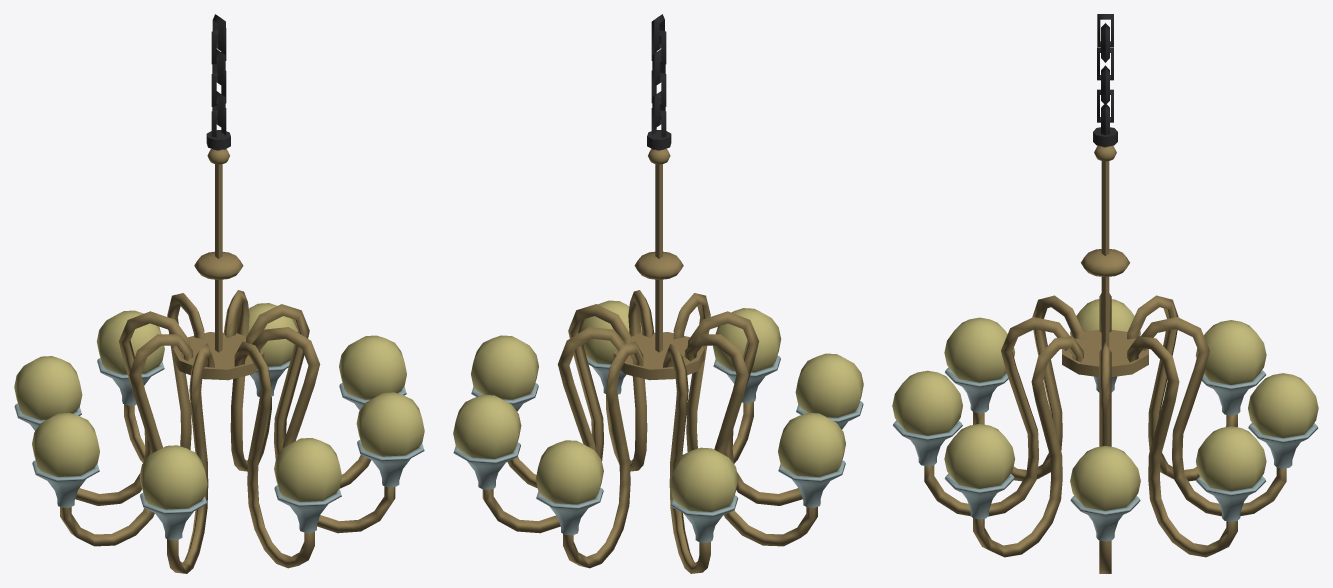
The model's file is chandel.fbx.
The picture shows the model from 3 angles, left to right: view 1: azimuth 30°, elevation 25°; view 2: azimuth 150°, elevation 25°; view 3: azimuth 270°, elevation 25°; orthographic projection.
Parts seen in each view (by area): view 1: pCylinder184; view 2: pCylinder184; view 3: pCylinder184.
Part boxes in pixels (box(x1,y1,x2,y2)): pCylinder184: box(14, 14, 424, 573); pCylinder184: box(453, 14, 863, 573); pCylinder184: box(892, 14, 1318, 573).
Bounding box in the file's own units: 288 × 374 × 288.
